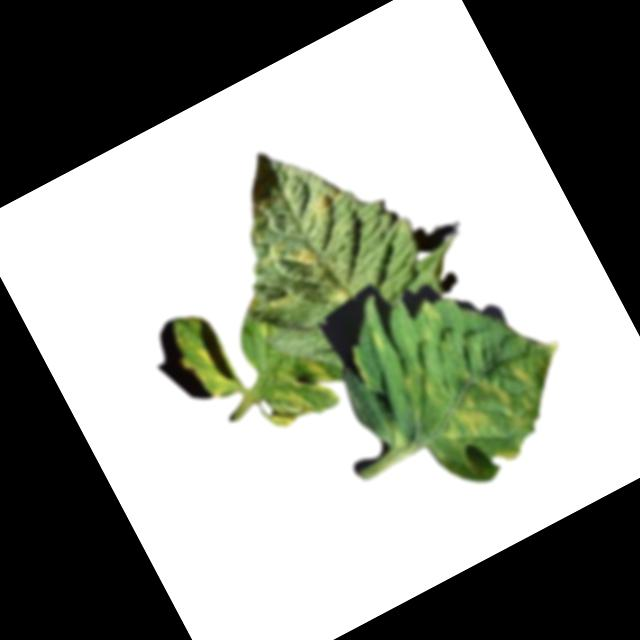Leaf_Mold: (399, 304, 597, 489), (244, 351, 344, 440), (166, 309, 245, 409), (300, 182, 349, 225), (276, 237, 323, 279), (324, 282, 352, 308)
